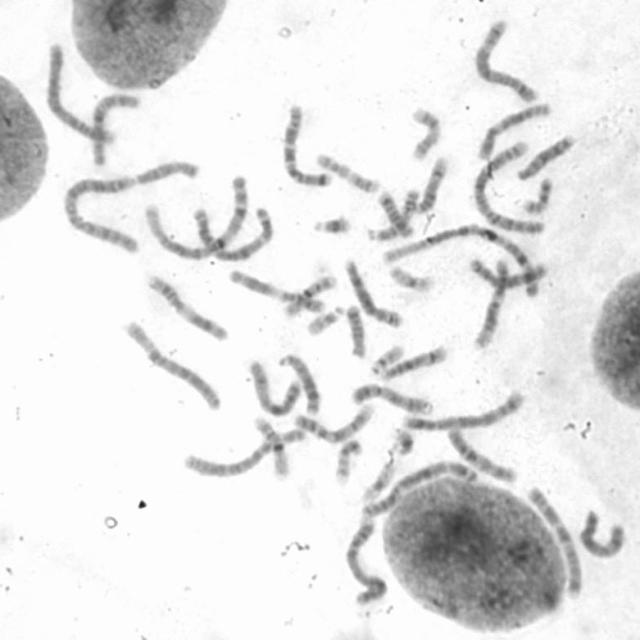A1: (379, 217, 546, 298), (142, 168, 253, 263)
A2: (472, 136, 548, 237), (59, 172, 143, 256)
A3: (358, 456, 484, 518), (188, 202, 276, 262)
B4: (43, 38, 117, 144), (340, 512, 389, 607)
B5: (470, 15, 541, 105), (399, 386, 528, 432)
C10: (442, 422, 520, 484), (87, 89, 142, 168)
C11: (143, 269, 231, 343), (224, 266, 328, 315)
C12: (474, 99, 553, 161), (470, 255, 512, 352)
C6: (120, 316, 224, 412), (179, 424, 308, 478)
C7: (524, 483, 584, 602), (277, 99, 334, 189)
C8: (340, 253, 404, 329), (465, 252, 548, 291)
C9: (289, 397, 377, 444), (346, 379, 434, 416)
D13: (274, 348, 323, 416), (514, 130, 577, 182)
D14: (375, 341, 450, 382), (411, 151, 451, 216)
D15: (367, 185, 417, 240)
E16: (249, 410, 293, 480), (278, 269, 339, 318)
E17: (311, 148, 383, 195), (406, 102, 444, 162)
E18: (372, 186, 416, 239), (342, 299, 368, 359)
F19: (358, 458, 398, 504), (384, 260, 436, 294)
F20: (331, 436, 364, 485), (520, 173, 556, 217)
G21: (307, 209, 353, 237), (387, 422, 416, 457)
G22: (304, 302, 346, 337), (366, 340, 405, 375)
X: (245, 353, 306, 418), (574, 504, 628, 560)
